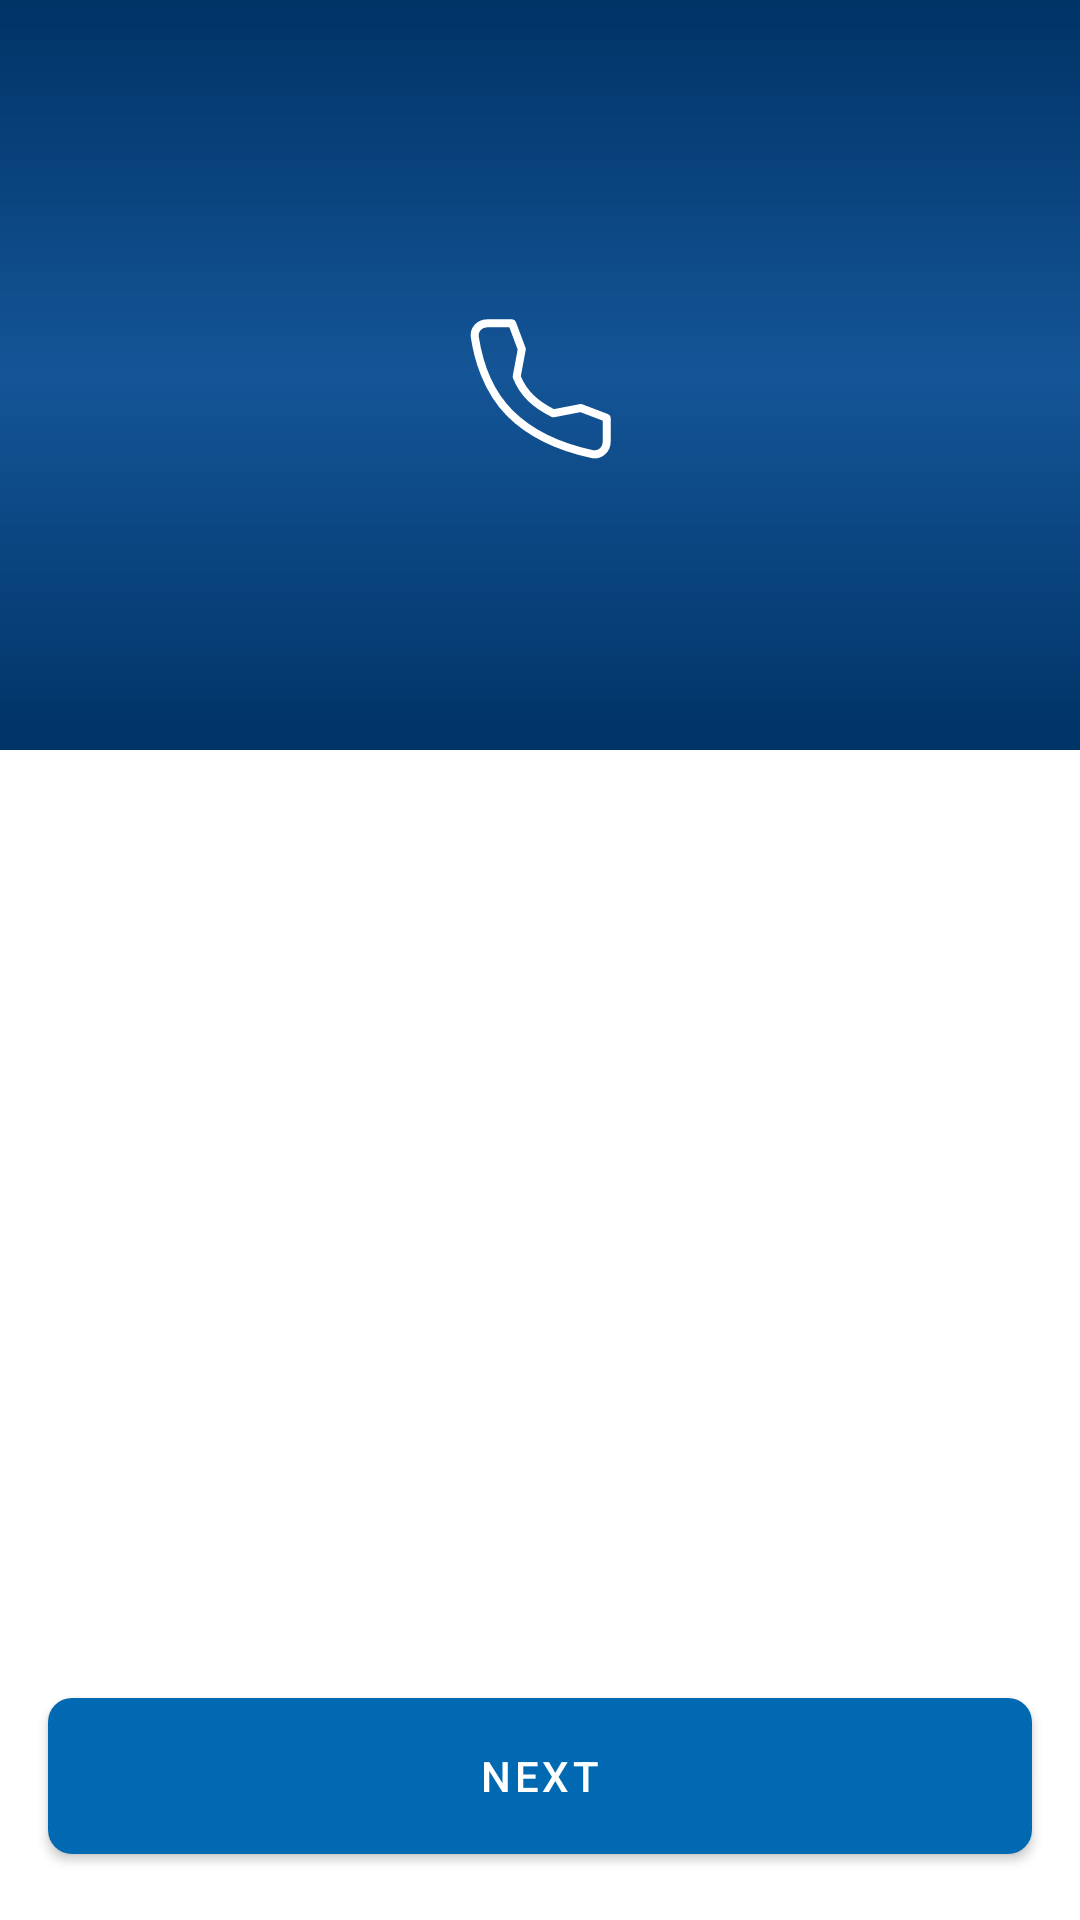

Named icons in this screenshot (1080 x 1920) and their bounding boxes, (x1, y1, x2, y2):
phone: (470, 319, 611, 459)
